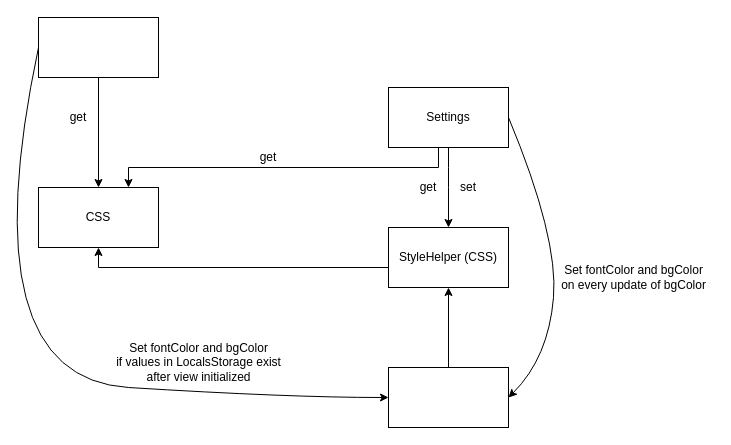
This 731x445 diagram has some shape labels left out. Each missing label, with the centre of its shape:
"Carousel" goes at point (98, 47).
"LocalStorage" goes at point (448, 397).
